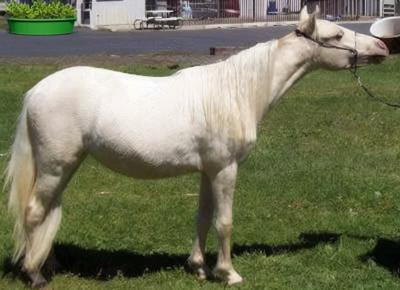horse: (1, 6, 391, 287)
pottedplant: (7, 1, 76, 34)
